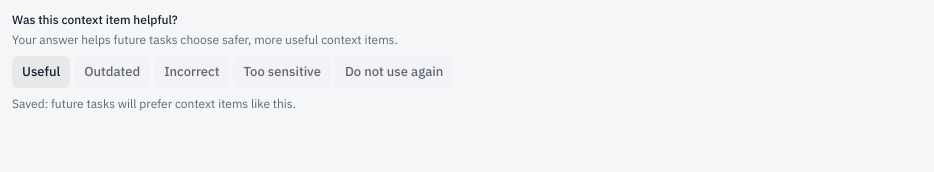
Test: FeedbackControls › shows recovery guidance when feedback cannot be saved
The width and height of the screenshot is (934, 172).
What coordinates should you click on to do the following:
click the button "Outdated"
I would click on:
 (112, 72)
Its box is [74,56,150,88].
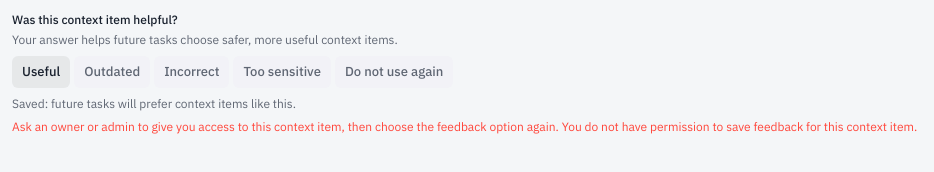
Expected: the message shows "You do not have permission", [12,119,917,134]
Expected: the message shows "this context item", [12,119,917,134]
Expected: the message shows "Ask an owner or admin", [12,119,917,134]
